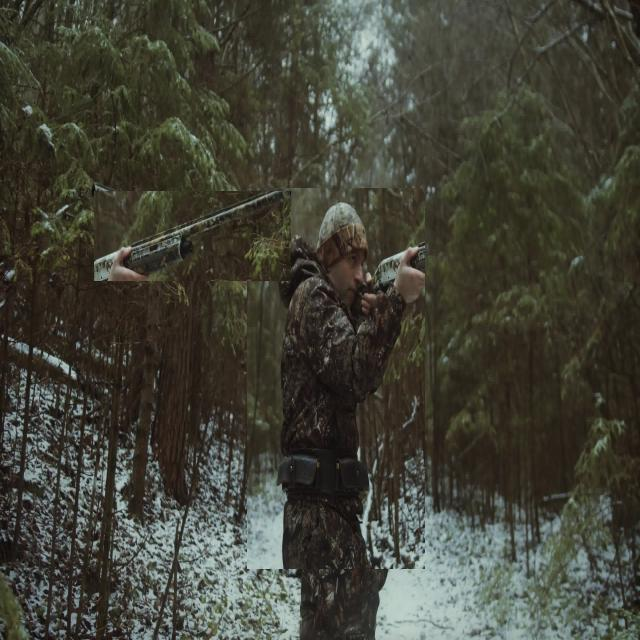poacher: (247, 188, 425, 569)
weapon: (94, 191, 291, 281)
